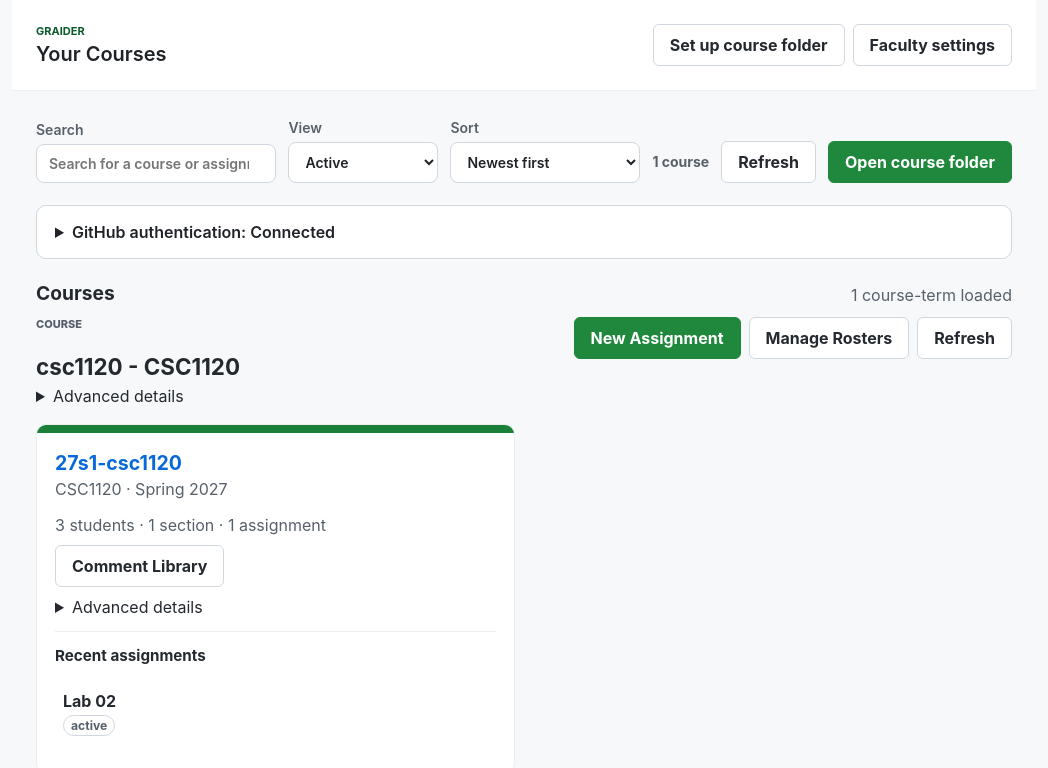
App routing — reached from the dashboard › opens faculty report directly from assignment detail with the selected course context
Click the button with aria-label "Open assignment detail for Lab 02": click(90, 701) top-left (55, 683), bottom-right (496, 744)
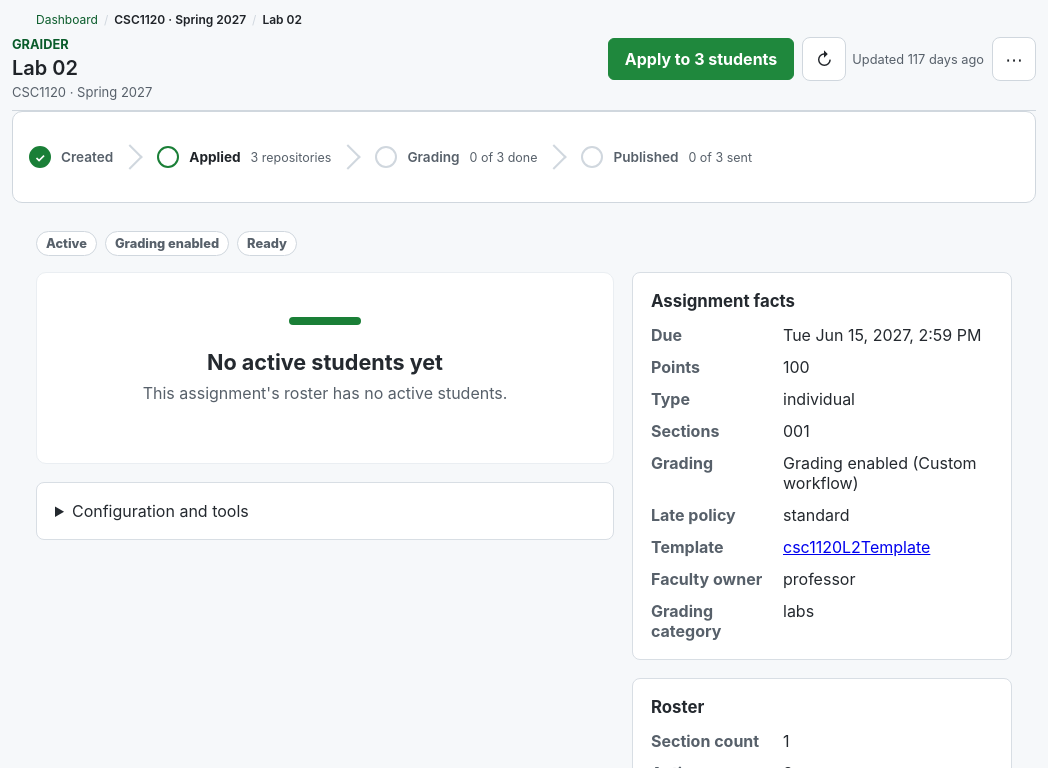
Expected: the heading "Lab 02" is shown, top-left (12, 56), bottom-right (78, 80)
Click the button named "More assignment actions": click(1014, 59) top-left (992, 37), bottom-right (1036, 81)
(page scrolled)
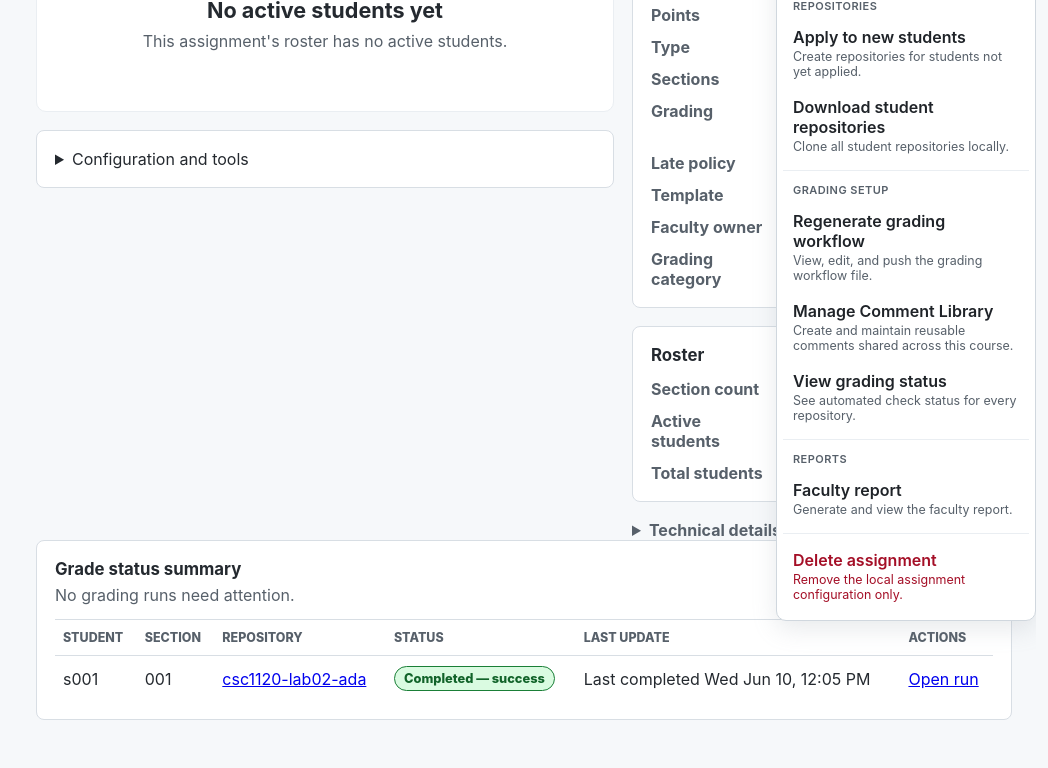
Click the menu item "Faculty report Generate and view the faculty report.": click(906, 498) top-left (783, 472), bottom-right (1029, 525)
(page scrolled)
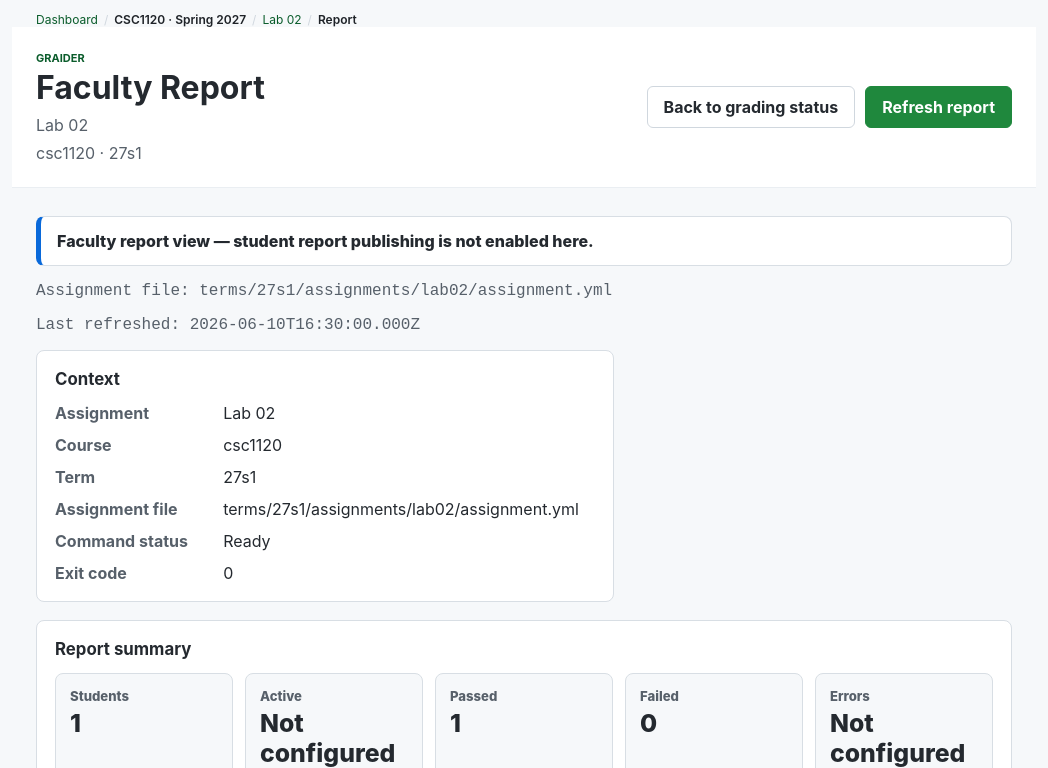
Expected: the heading "Faculty Report" is shown, top-left (36, 69), bottom-right (265, 107)
